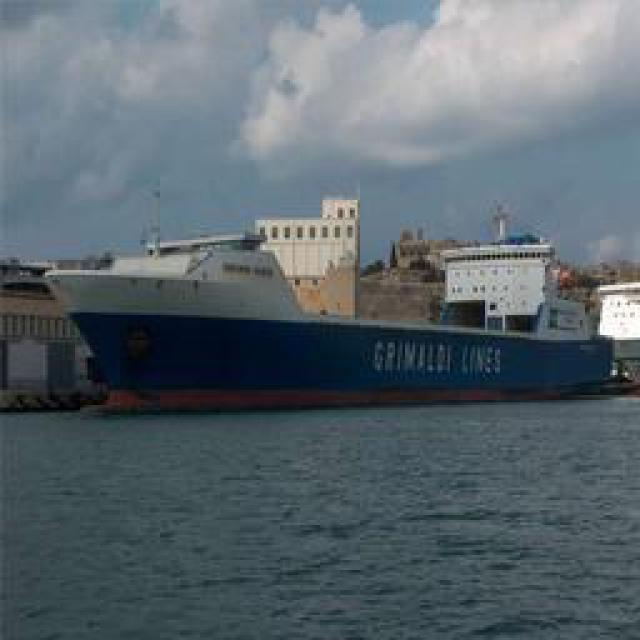Ship: (25, 225, 625, 415)
